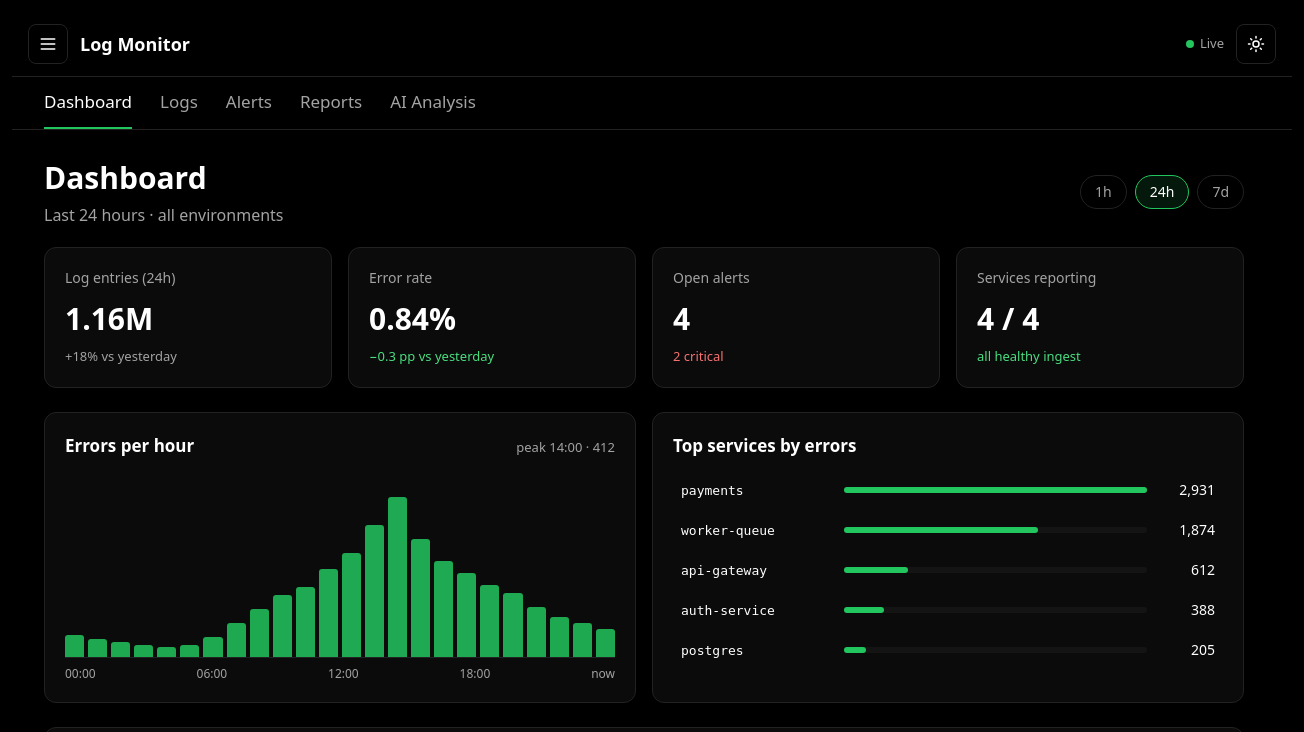
Test: AppLayout › closes the drawer with Escape
Click the button named "Open menu". click: [48, 44]
box: [28,24,68,64]
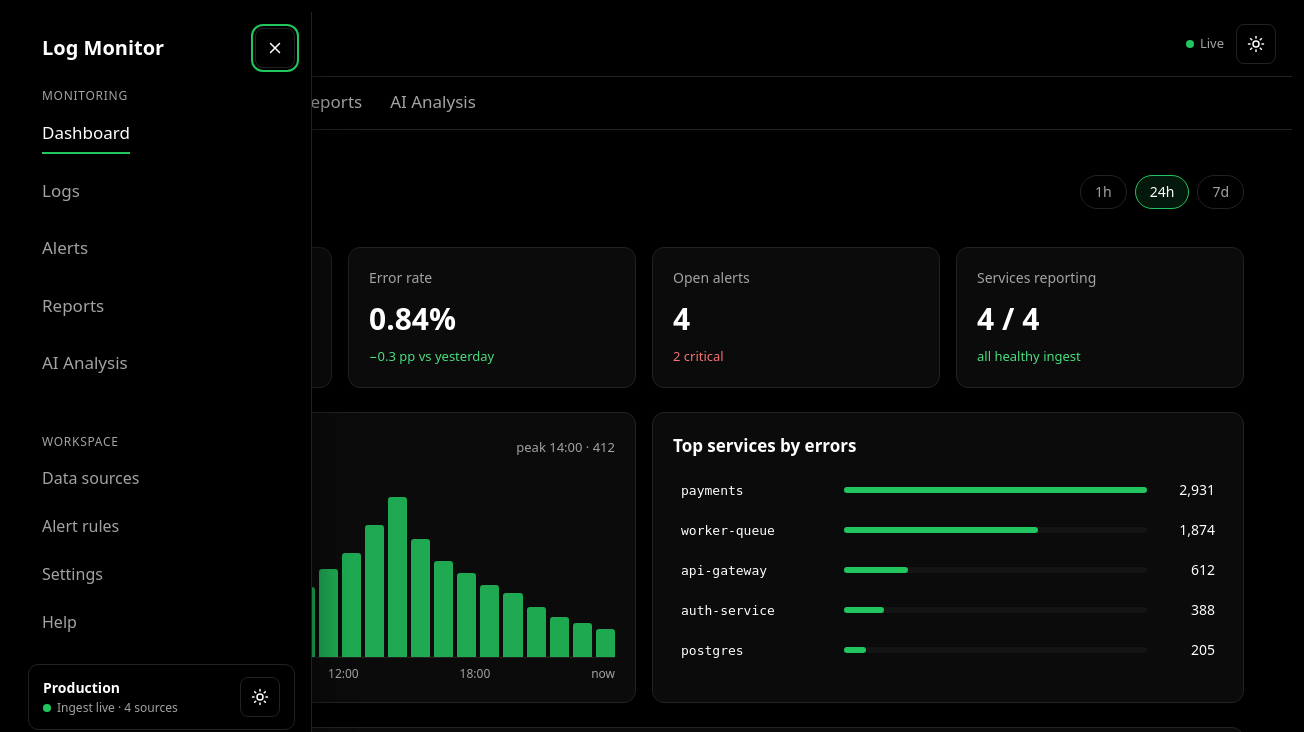
Press Escape
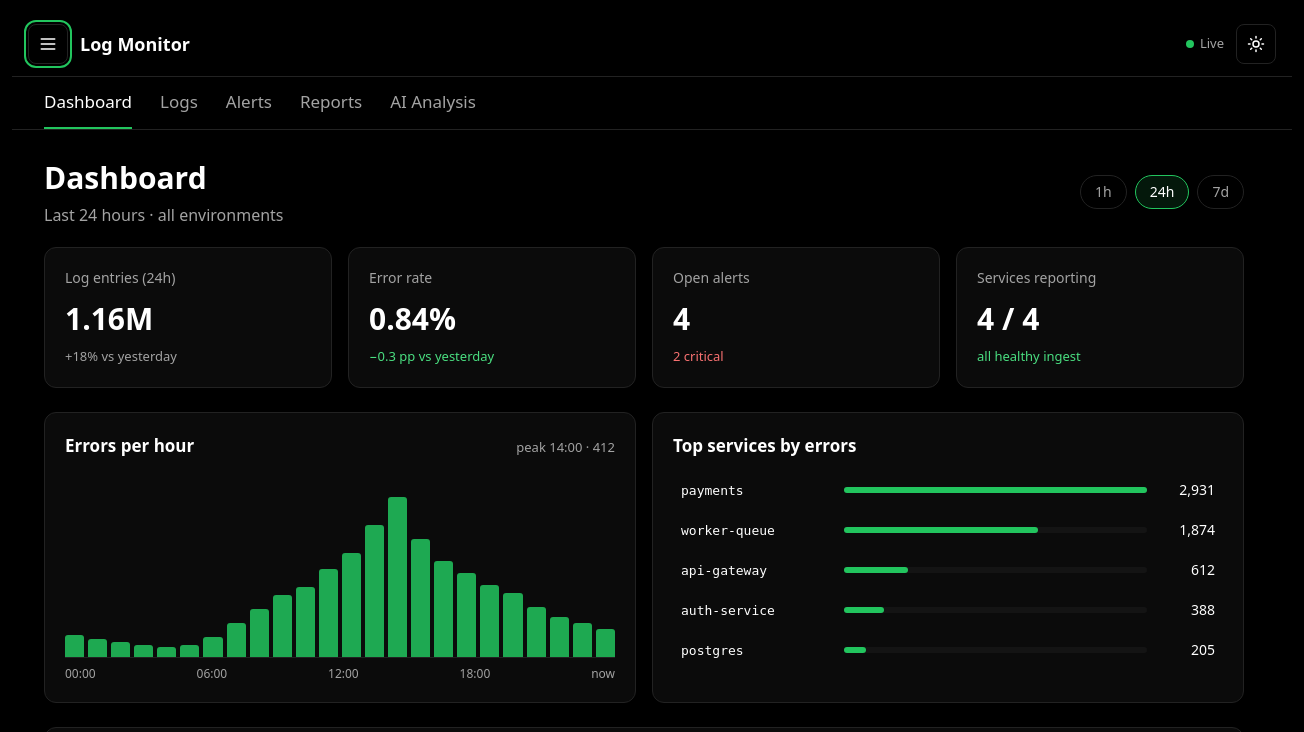
Now the button named "Open menu" is collapsed, box [28,24,68,64]
